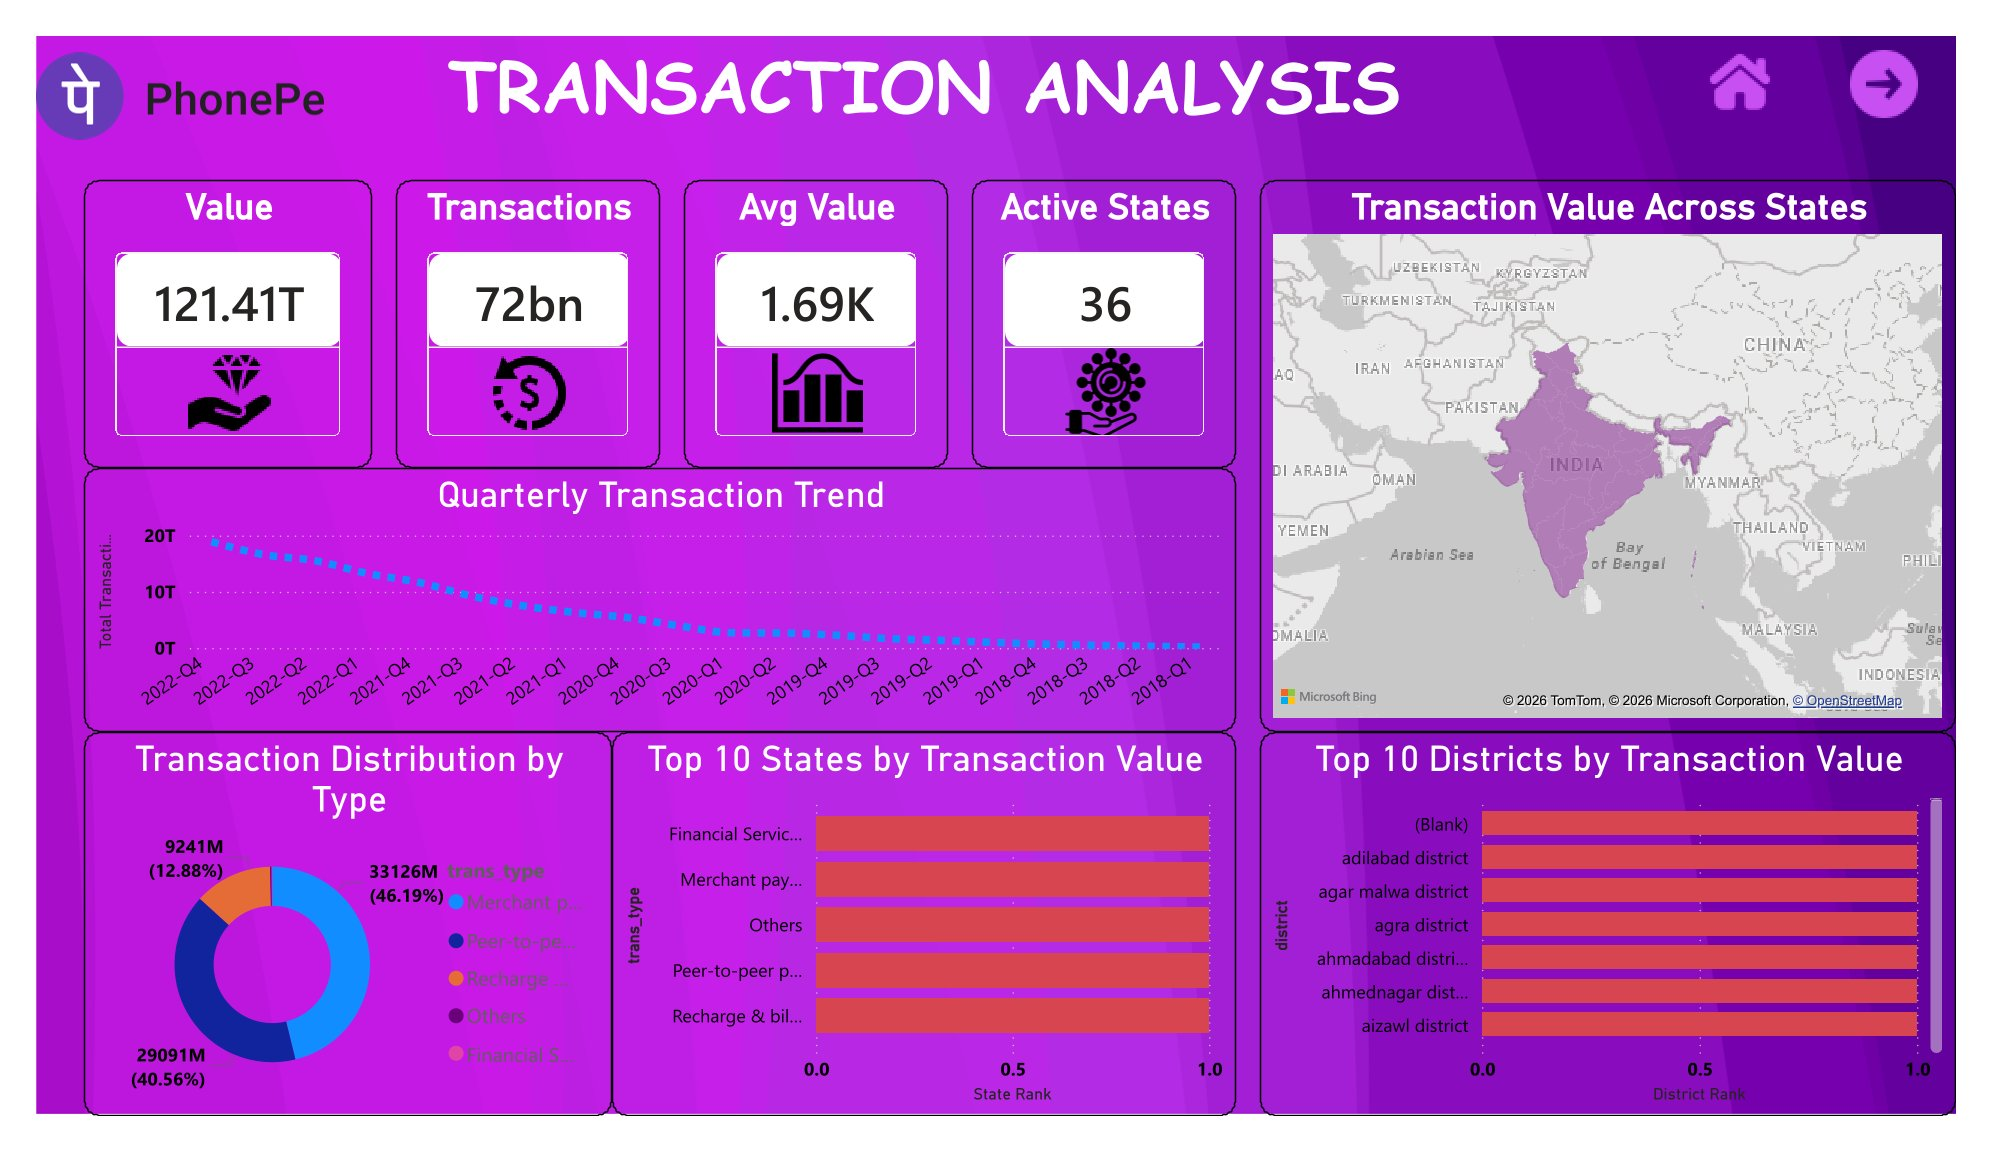

Layout of this report page (visuals, bound fields, positions):
{"tool":"powerbi","page":{"name":"Explore Transactions","canvas":[1280,720],"ordinal":1},"visuals":[{"type":"image","box":[0,0,1280.6,719.4],"z":0},{"type":"image","box":[0,0,192,80],"z":1000},{"type":"textbox","title":"TRANSACTION ANALYSIS","box":[208,0,768,96],"z":2000},{"type":"cardVisual","title":"Value","fields":{"Data":["aggregated_transaction.Total Transaction Amount"]},"box":[32,96,192,192],"z":3000},{"type":"cardVisual","title":"Transactions","fields":{"Data":["aggregated_transaction.Total Transaction Count"]},"box":[240,96,176,192],"z":4000},{"type":"cardVisual","title":"Avg Value","fields":{"Data":["aggregated_transaction.Average Transaction Value"]},"box":[432,96,176,192],"z":5000},{"type":"cardVisual","title":"Active States","fields":{"Data":["aggregated_transaction.Active States"]},"box":[624,96,176,192],"z":6000},{"type":"actionButton","box":[1088,0,96,64],"z":7000},{"type":"actionButton","box":[1088,0,96,64],"z":8000},{"type":"actionButton","box":[1184,0,96,64],"z":9000},{"type":"filledMap","title":"Transaction Value Across States","fields":{"Category":["map_user.states"],"Y":["Min(map_transaction.district)"]},"box":[816,96,464,368],"z":10000},{"type":"lineChart","title":"Quarterly Transaction Trend","fields":{"Category":["Dim_Date.YearQuarter"],"Y":["aggregated_transaction.Total Transaction Amount"]},"box":[32,288,768,176],"z":11000},{"type":"donutChart","title":"Transaction Distribution by Type","fields":{"Category":["aggregated_transaction.trans_type"],"Y":["aggregated_transaction.Total Transaction Count"]},"box":[32,464,352,256],"z":12000},{"type":"clusteredBarChart","title":"Top 10 States by Transaction Value","fields":{"Y":["aggregated_transaction.State Rank"],"Category":["aggregated_transaction.trans_type"]},"box":[384,464,416,256],"z":13000},{"type":"barChart","title":"Top 10 Districts by Transaction Value","fields":{"Category":["map_transaction.district"],"Y":["map_user.District Rank"]},"box":[816,464,464,256],"z":14000}]}

Visuals, with their boxes in screenshot pixels (x1, y1, x2, y2), scaled from the page's 1280x720 canvas onto the 1992x1152 screenshot:
image: [0, 0, 1991, 1151]
image: [0, 0, 299, 128]
"TRANSACTION ANALYSIS" textbox: [324, 0, 1519, 154]
"Value" cardVisual: [50, 154, 349, 461]
"Transactions" cardVisual: [374, 154, 647, 461]
"Avg Value" cardVisual: [672, 154, 946, 461]
"Active States" cardVisual: [971, 154, 1245, 461]
actionButton: [1693, 0, 1843, 102]
actionButton: [1693, 0, 1843, 102]
actionButton: [1843, 0, 1991, 102]
"Transaction Value Across States" filledMap: [1270, 154, 1991, 742]
"Quarterly Transaction Trend" lineChart: [50, 461, 1245, 742]
"Transaction Distribution by Type" donutChart: [50, 742, 598, 1151]
"Top 10 States by Transaction Value" clusteredBarChart: [598, 742, 1245, 1151]
"Top 10 Districts by Transaction Value" barChart: [1270, 742, 1991, 1151]
